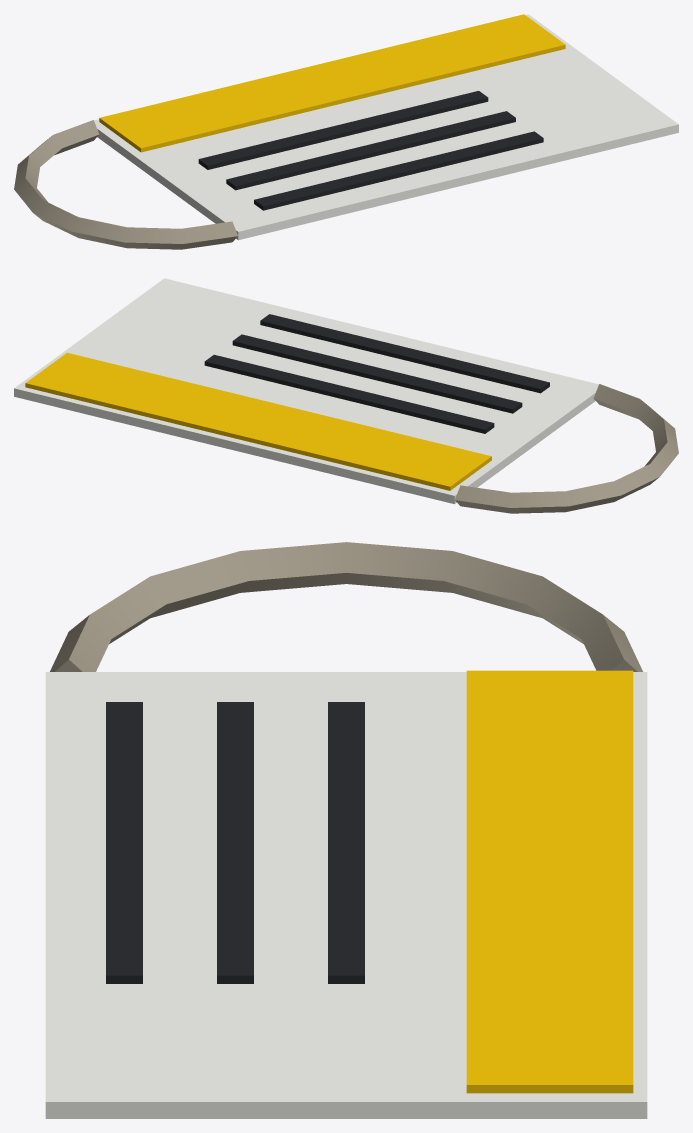
The model's file is SM_Flot_Etiqueta.fbx.
3 renders of one model, top to bottom at view 1: azimuth 30°, elevation 25°; view 2: azimuth 150°, elevation 25°; view 3: azimuth 270°, elevation 25°, orthographic. The views are drawn at different scales.
Parts seen in each view (by area): view 1: SM_Flot_Etiqueta; view 2: SM_Flot_Etiqueta; view 3: SM_Flot_Etiqueta.
Part boxes in pixels (x1=…): SM_Flot_Etiqueta: x1=14, y1=14, x2=678, y2=249; SM_Flot_Etiqueta: x1=14, y1=278, x2=678, y2=513; SM_Flot_Etiqueta: x1=45, y1=542, x2=647, y2=1118.
Size of the model in its own units: 0.1425 by 0.005 by 0.065.
